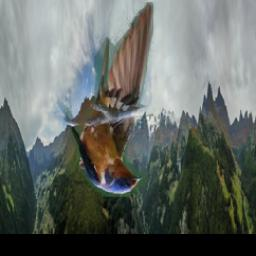Swallow: (65, 2, 154, 197)
